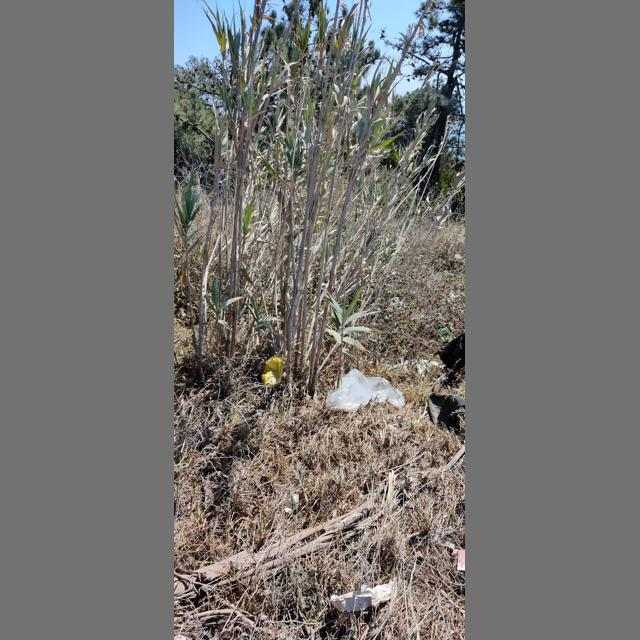litter: (327, 368, 405, 411), (331, 582, 394, 612), (428, 391, 466, 429), (395, 359, 448, 376), (262, 355, 286, 384), (439, 541, 458, 556), (285, 495, 299, 512), (439, 328, 454, 341), (387, 416, 401, 428), (458, 547, 465, 571), (389, 297, 403, 309)
